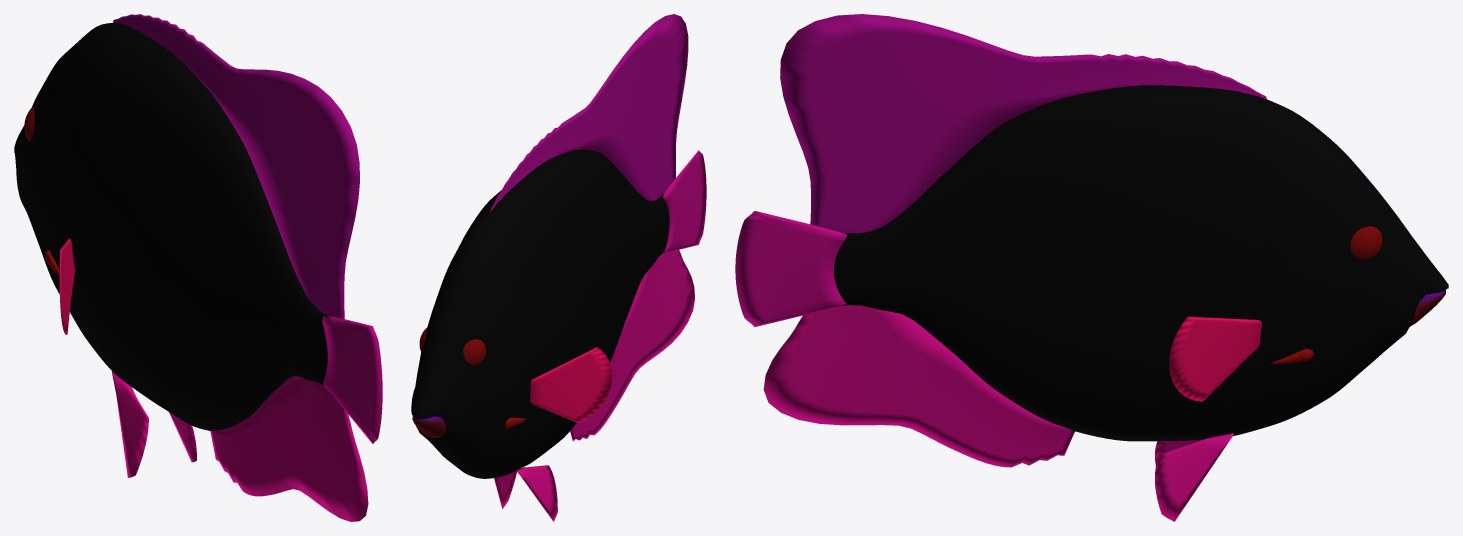
Rendered from angelfish_french.glb.
3 views of the same model, side by side, from view 1: azimuth 30°, elevation 25°; view 2: azimuth 150°, elevation 25°; view 3: azimuth 270°, elevation 25° (orthographic). The views are drawn at different scales.
Parts seen in each view (by area): view 1: angelfish_french; view 2: angelfish_french; view 3: angelfish_french.
Part boxes in pixels (x1=…): angelfish_french: x1=14, y1=14, x2=382, y2=521; angelfish_french: x1=411, y1=14, x2=706, y2=521; angelfish_french: x1=735, y1=14, x2=1448, y2=521.
Bounding box in the file's own units: 0.1146 × 0.2668 × 0.35.
